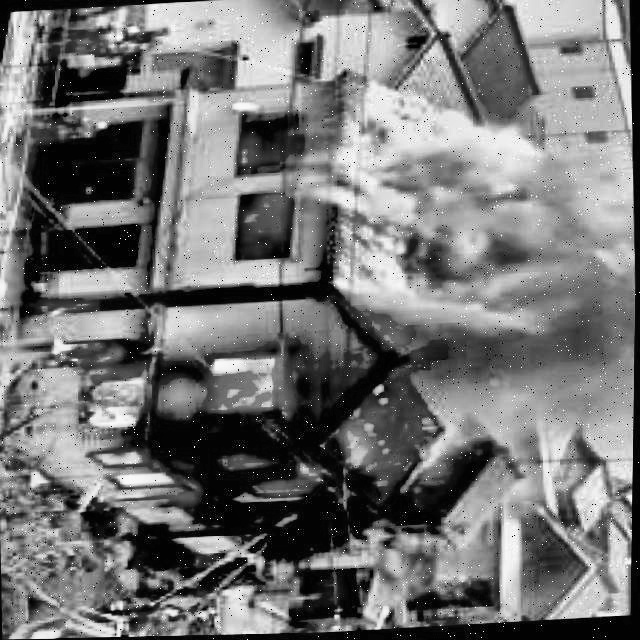Fire: (28, 283, 333, 529), (235, 193, 298, 258)
Smoke: (330, 66, 639, 442)
